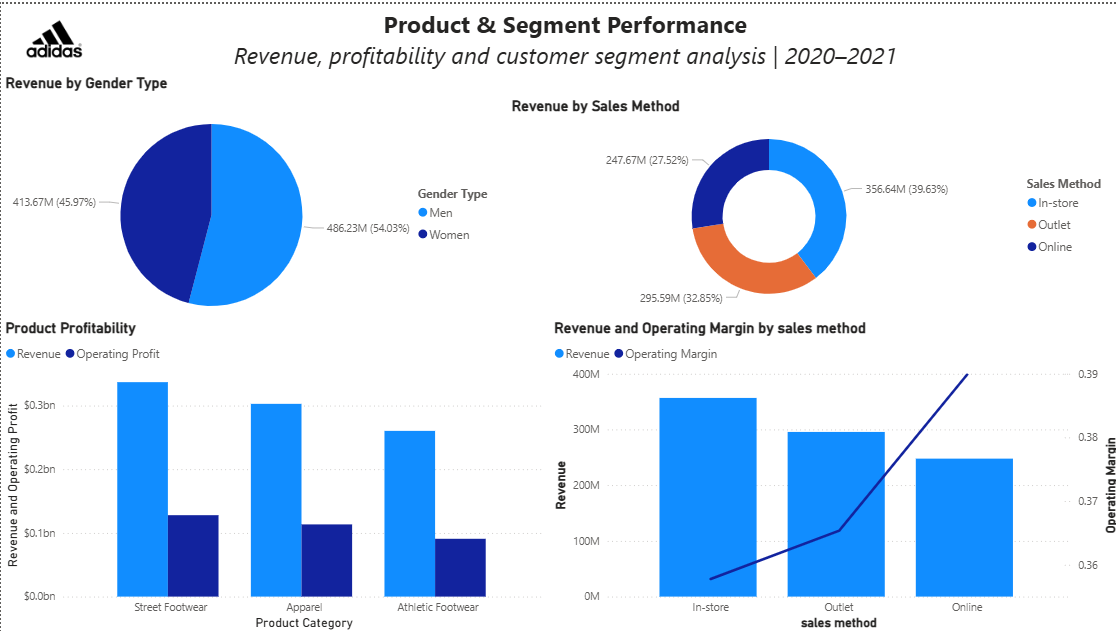

This screenshot's page, from the dashboard's own definition file:
{"tool":"powerbi","page":{"name":"Product & Segment","canvas":[1280,720],"ordinal":1},"visuals":[{"type":"textbox","box":[10,0,1270,105],"z":0},{"type":"pieChart","fields":{"Category":["adidas_sales.gender_type"],"Y":["adidas_sales.adidas Total Sales"]},"box":[0,80,578.3,303.3],"z":2000},{"type":"donutChart","fields":{"Category":["adidas_sales.sales_method"],"Y":["adidas_sales.adidas Total Sales"]},"box":[578.3,105,701.7,255],"z":3000},{"type":"lineClusteredColumnComboChart","fields":{"Category":["adidas_sales.sales_method"],"Y":["adidas_sales.adidas Total Sales"],"Y2":["adidas_sales.adidas Operating Margin"]},"box":[626.7,360,653.3,360],"z":5000},{"type":"clusteredColumnChart","title":"Product Profitability","fields":{"Category":["adidas_sales.product_category"],"Y":["adidas_sales.adidas Total Sales","adidas_sales.adidas Operating Profit"]},"box":[0,360,626.7,360],"z":6000},{"type":"image","box":[0,0,121,80],"z":7000}]}

Visuals, with their boxes in screenshot pixels (x1, y1, x2, y2), scaled from the page's 1280x720 canvas onto the 1116x632 screenshot:
textbox: [9, 0, 1115, 92]
pieChart - adidas_sales.gender_type x adidas_sales.adidas Total Sales: [0, 70, 504, 336]
donutChart - adidas_sales.sales_method x adidas_sales.adidas Total Sales: [504, 92, 1115, 316]
lineClusteredColumnComboChart - adidas_sales.sales_method x adidas_sales.adidas Total Sales: [546, 316, 1115, 631]
"Product Profitability" clusteredColumnChart: [0, 316, 546, 631]
image: [0, 0, 105, 70]
